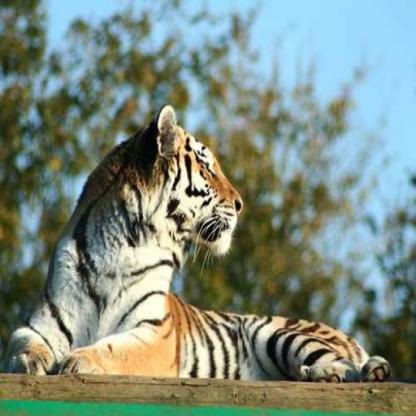Tiger: (0, 97, 398, 387)
